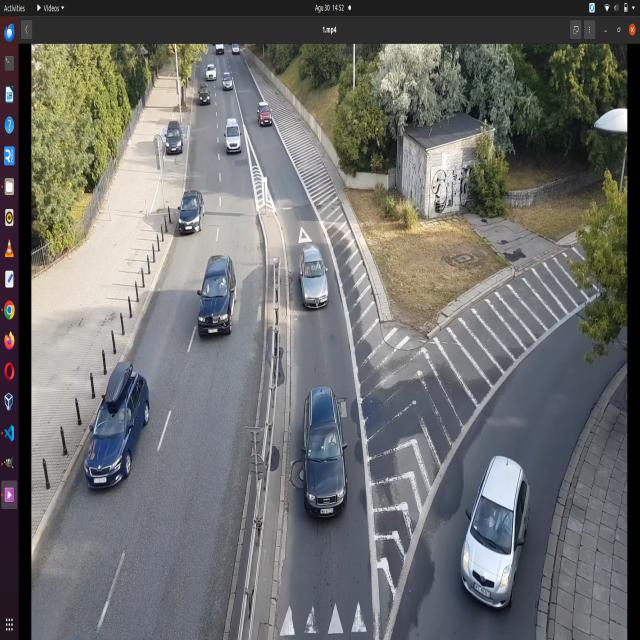person_with_seatbelt: (497, 505, 516, 540), (323, 429, 342, 459), (118, 405, 132, 428), (310, 256, 321, 277), (218, 276, 229, 297)
